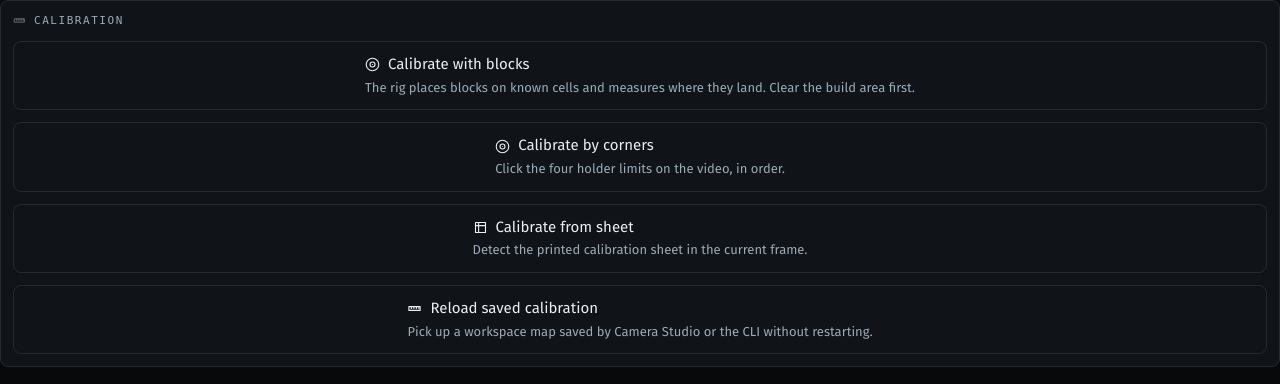
placed-block calibration › stops offering steps once the rig has aborted
This screenshot has width=1280, height=384.
Click the button "Calibrate with blocks": (459, 64) 13,41 -> 1267,110
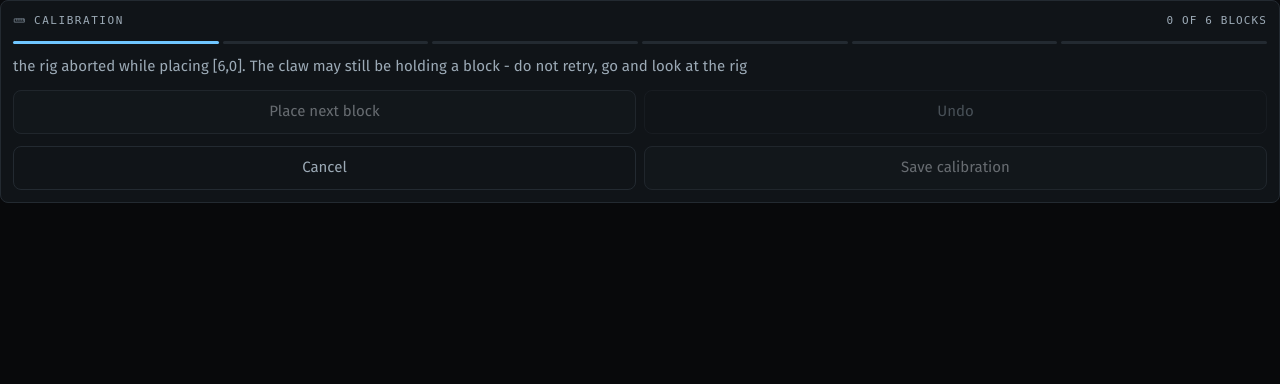
Now the message shows "go and look at the rig", box 13,57 -> 747,75
Now the button "Place next block" is disabled, box 13,90 -> 636,134
